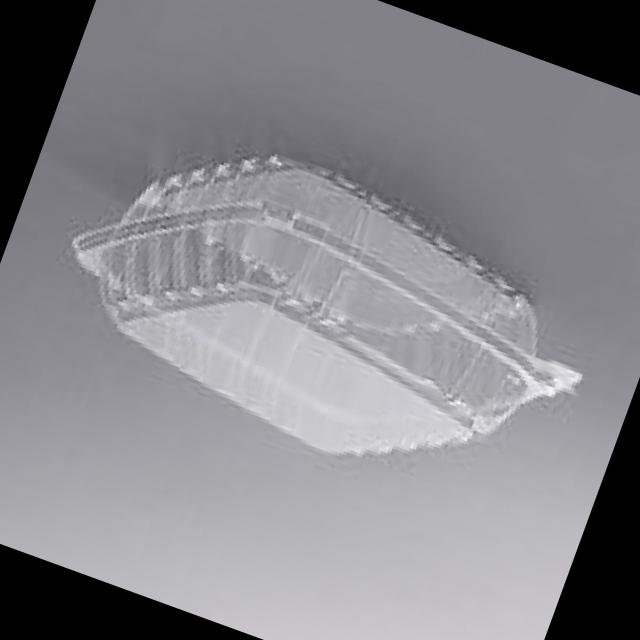KemasanPlastik: (30, 92, 620, 531)
